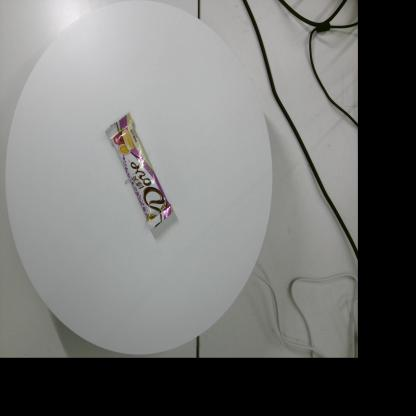Chocolate: (105, 112, 173, 231)
